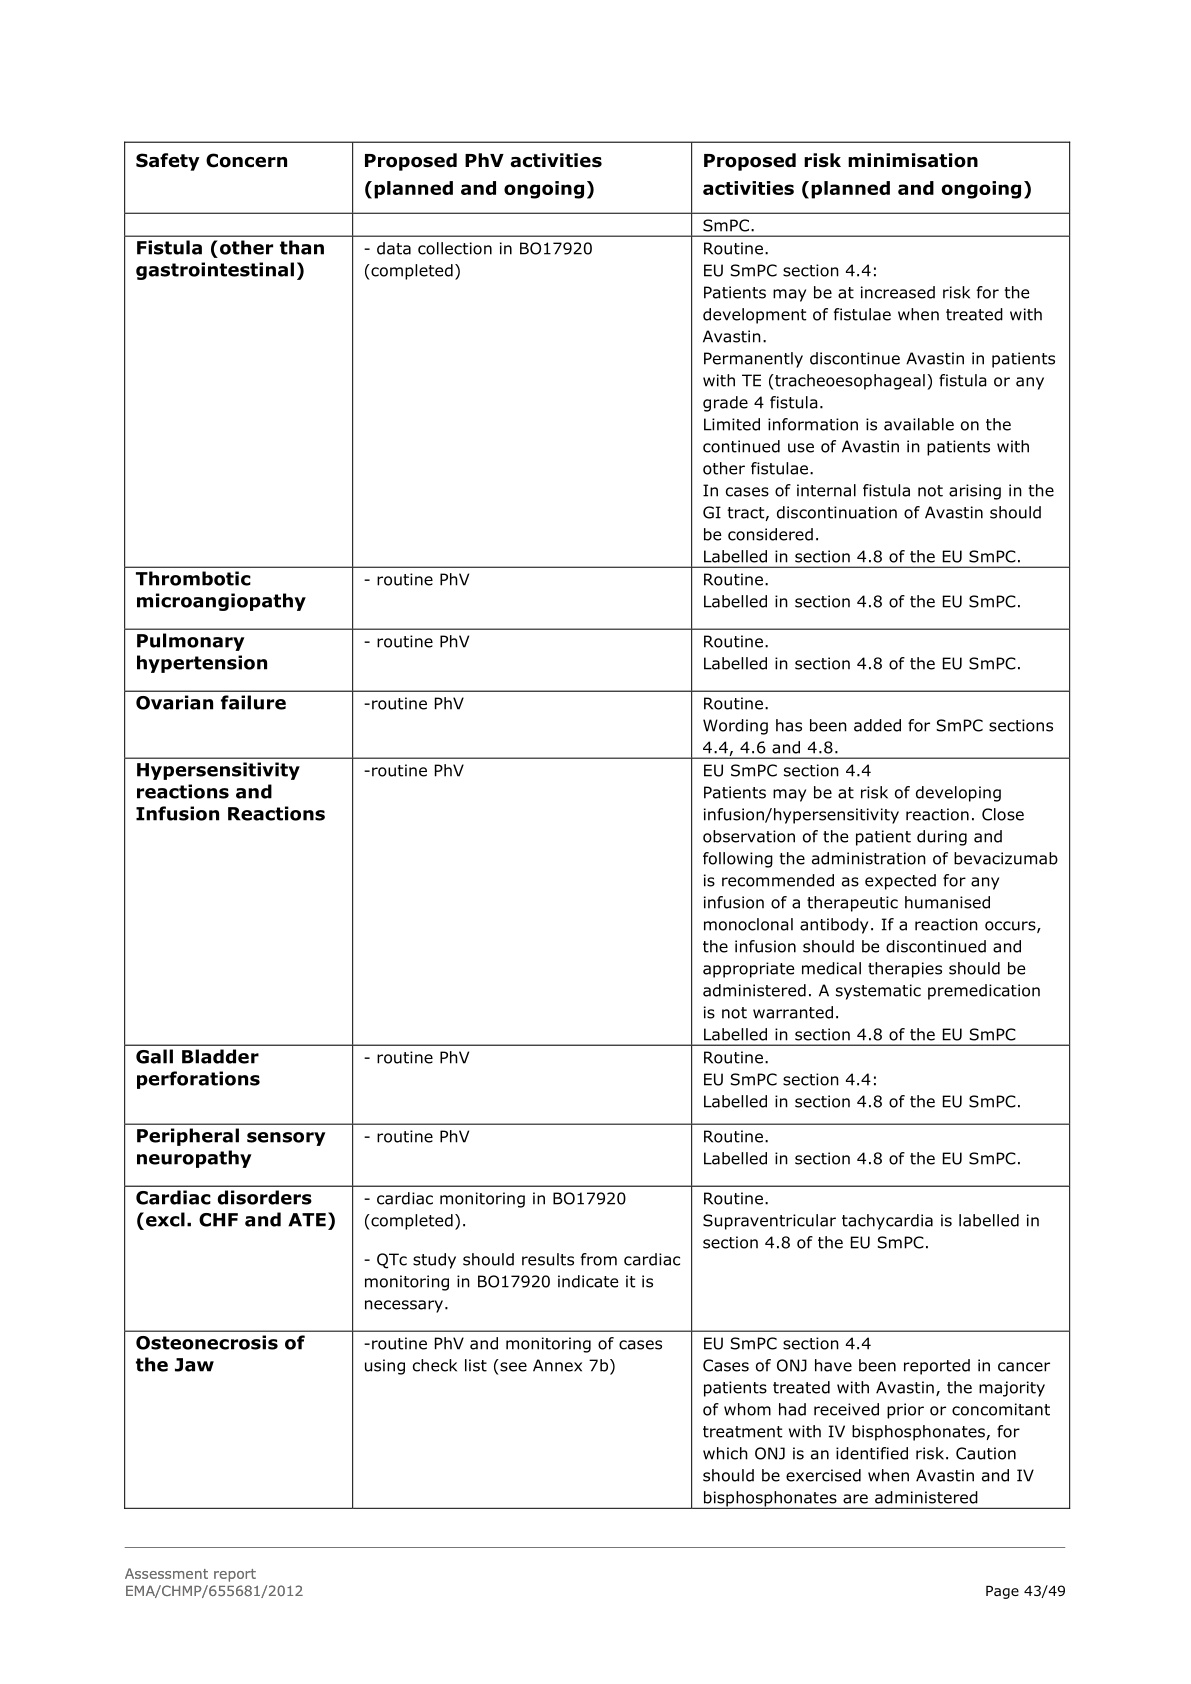full_lined: (122, 140, 1071, 1510)
